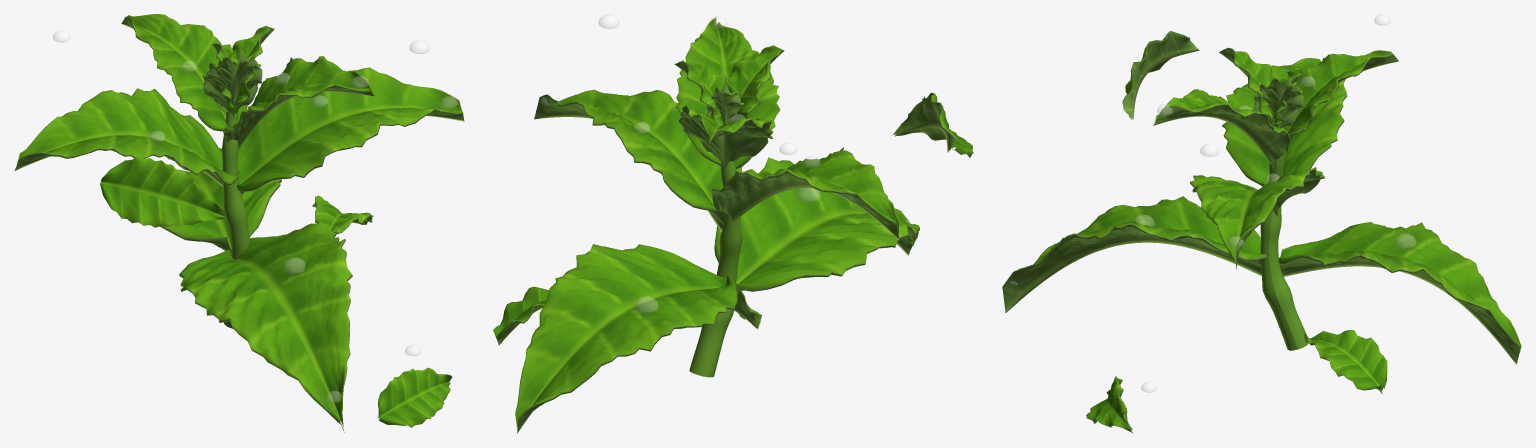
Rendered from mint-leaves.glb.
The picture shows the model from 3 angles, left to right: view 1: azimuth 30°, elevation 25°; view 2: azimuth 150°, elevation 25°; view 3: azimuth 270°, elevation 25°; orthographic projection. The views are drawn at different scales.
Visible parts, largest first — view 1: mint-leaves-cuticle-top, mint-leaves-underside, mint-stem, mint-dew-droplets; view 2: mint-leaves-cuticle-top, mint-leaves-underside, mint-stem, mint-dew-droplets; view 3: mint-leaves-cuticle-top, mint-leaves-underside, mint-stem, mint-dew-droplets.
Boxes of the visible parts, x1,y1,x2,y2 form: mint-leaves-cuticle-top: [16, 14, 462, 427]; mint-leaves-underside: [14, 17, 464, 432]; mint-stem: [222, 111, 249, 328]; mint-dew-droplets: [53, 30, 457, 402]; mint-leaves-cuticle-top: [493, 17, 973, 426]; mint-leaves-underside: [497, 40, 973, 433]; mint-stem: [689, 160, 742, 377]; mint-dew-droplets: [541, 14, 914, 312]; mint-leaves-cuticle-top: [1002, 34, 1521, 432]; mint-leaves-underside: [1002, 31, 1520, 431]; mint-stem: [1260, 153, 1308, 350]; mint-dew-droplets: [1009, 14, 1416, 392].
Bounding box in the file's own units: 0.0939 × 0.0766 × 0.1112.
4 materials, 2 textured.
